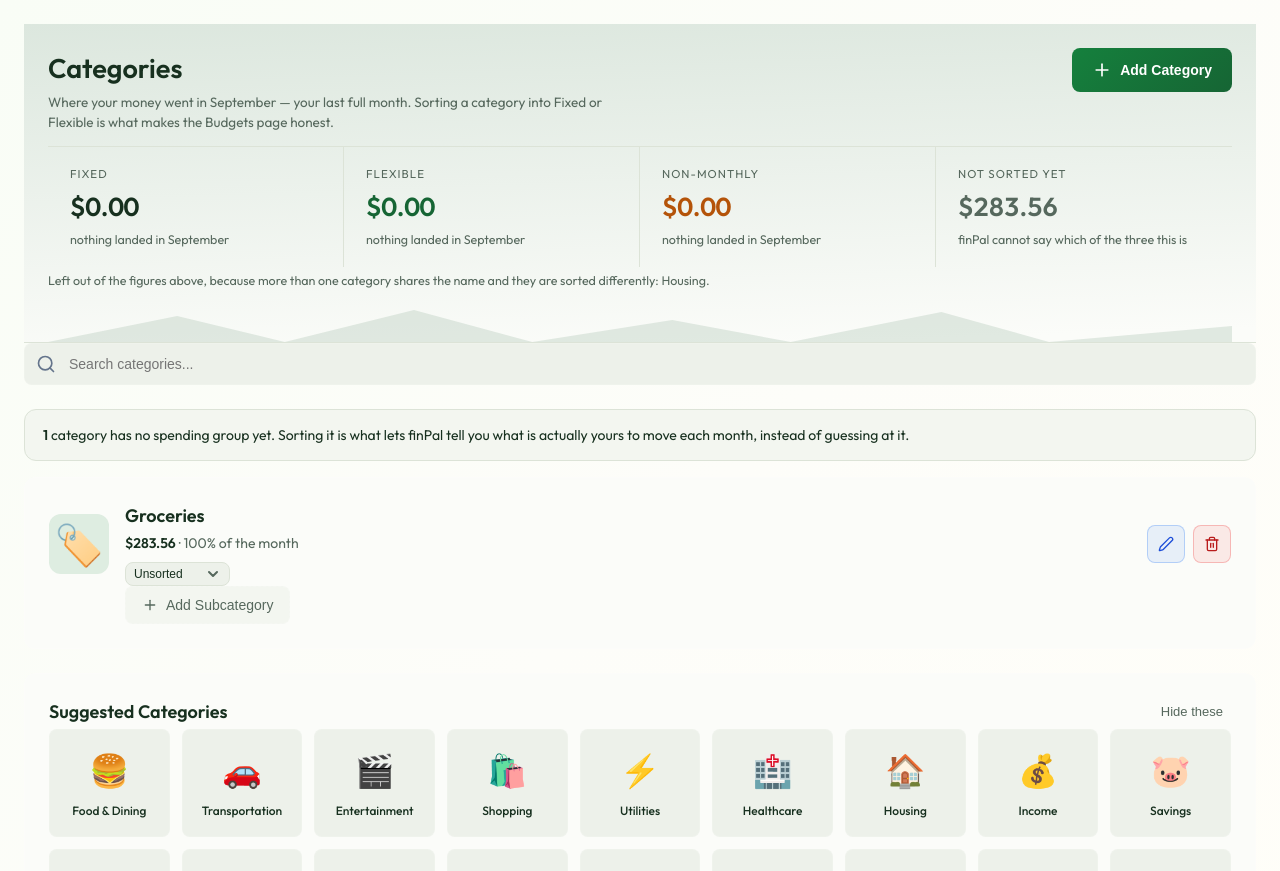
"Hide these" is the flag the reporter asked for › removes the panel and remembers the choice
Check: the heading "Suggested Categories" is shown, box top-left (49, 698), bottom-right (228, 725)
Click the button "Hide these": (1192, 712) top-left (1153, 700), bottom-right (1231, 723)
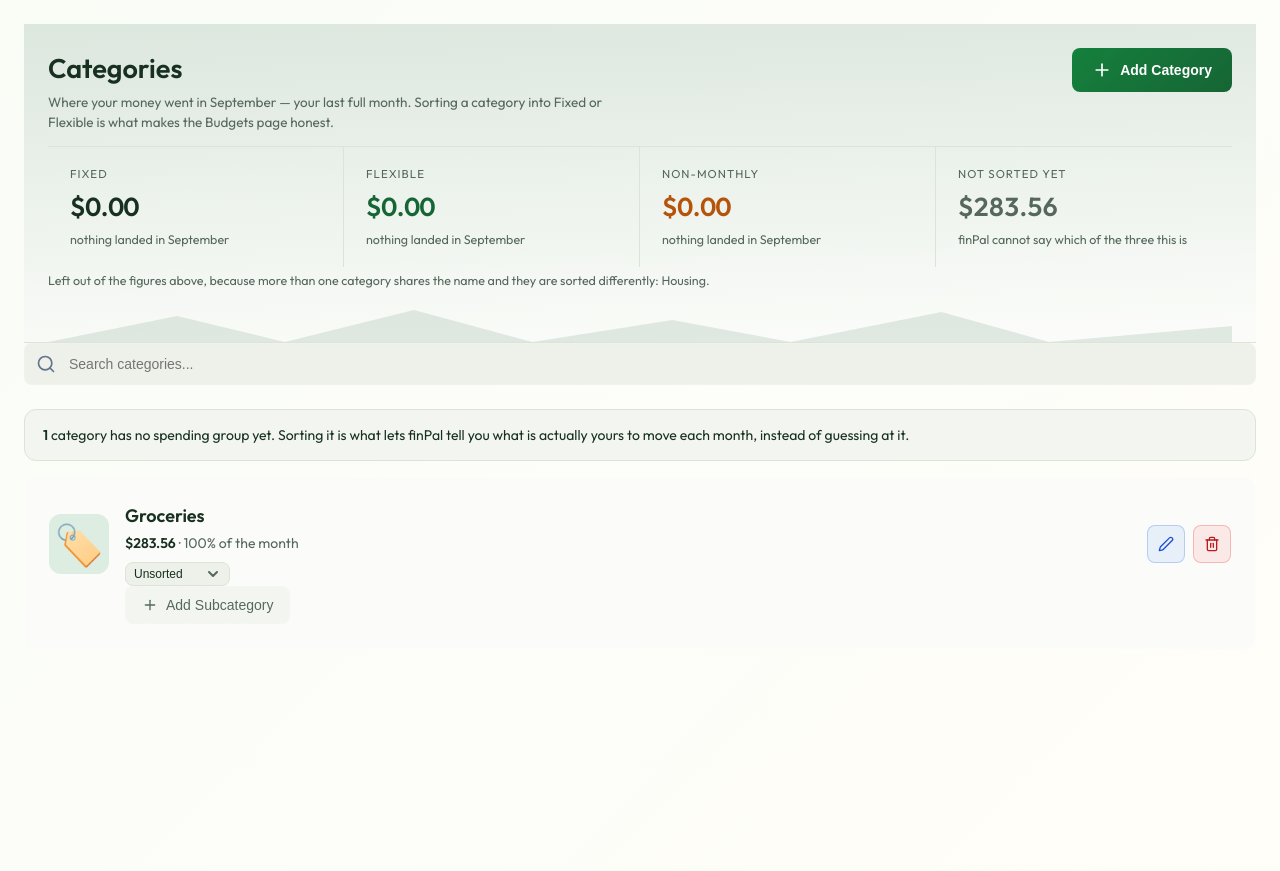
Check: the heading "Suggested Categories" is gone
